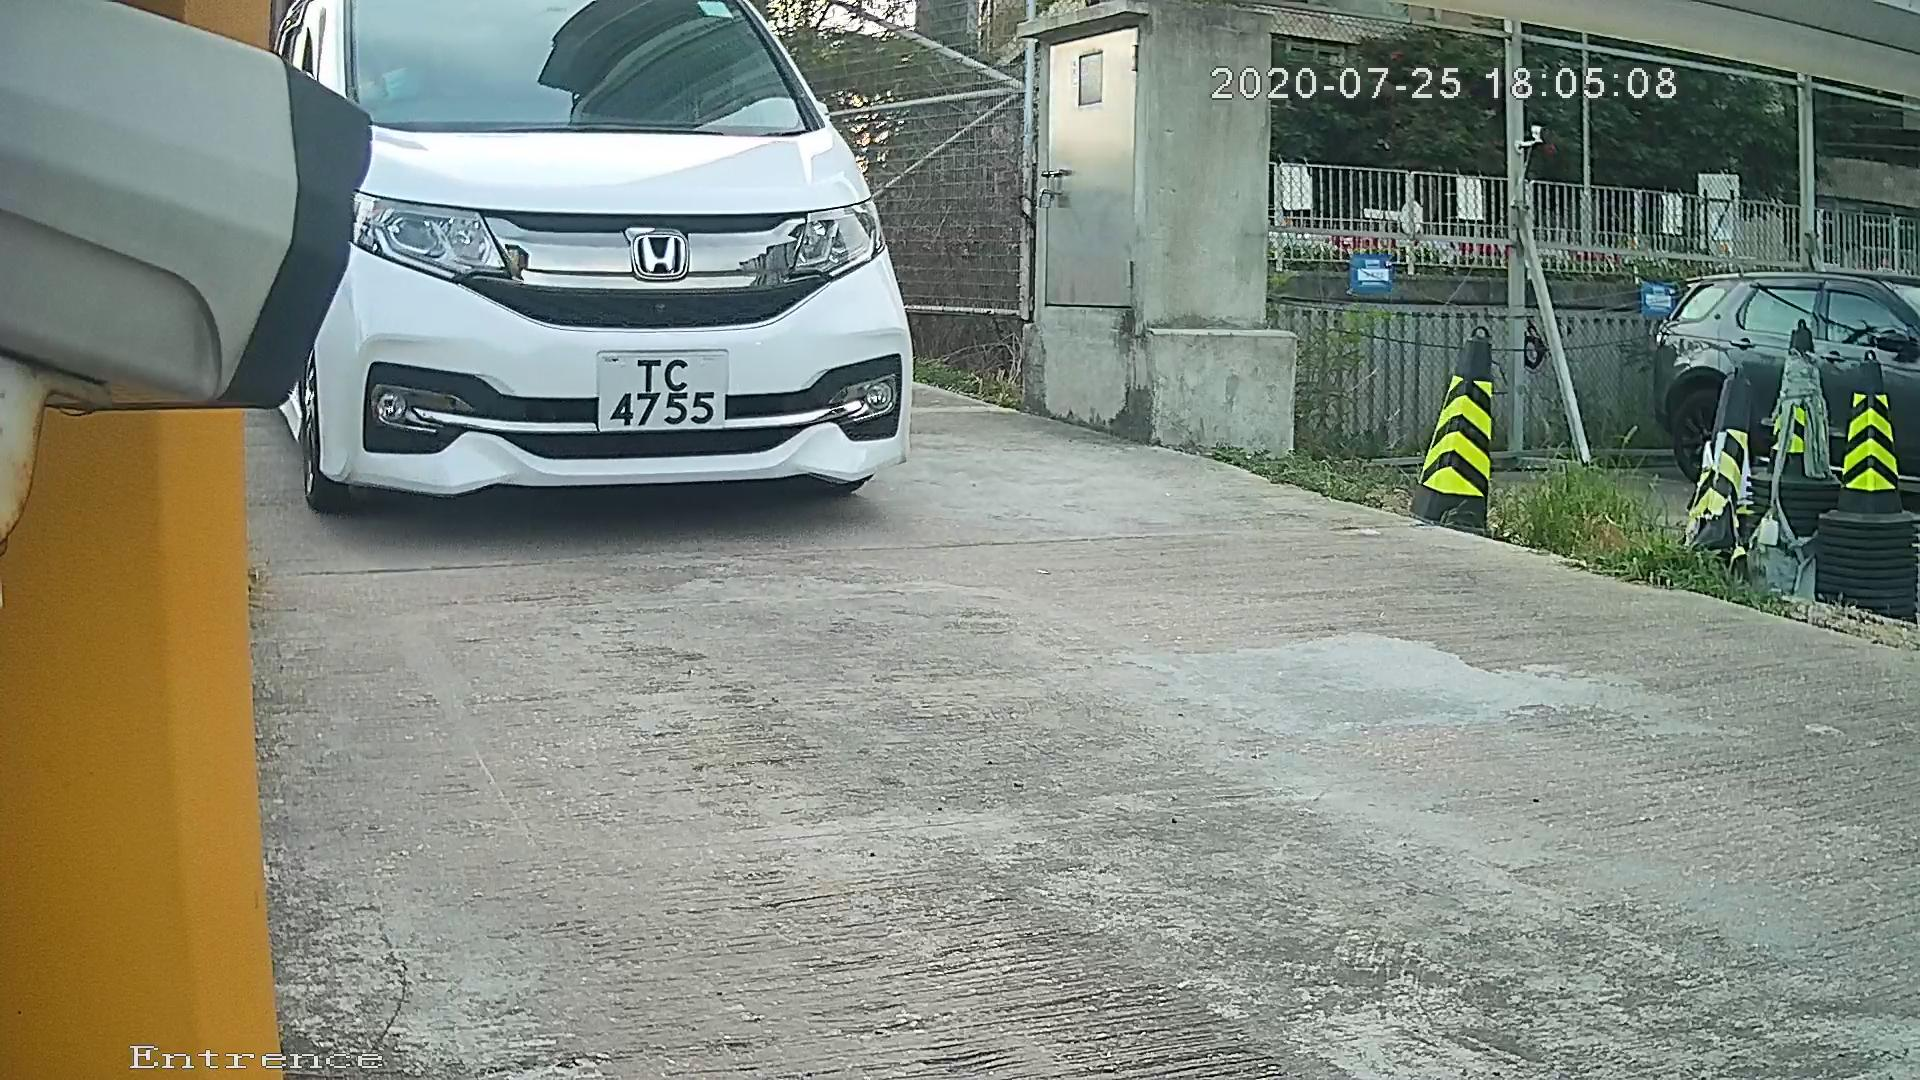Car: (215, 20, 961, 521)
License Plate: (566, 338, 755, 444)
